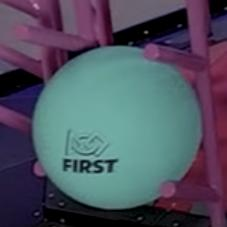algae: (33, 46, 202, 207)
